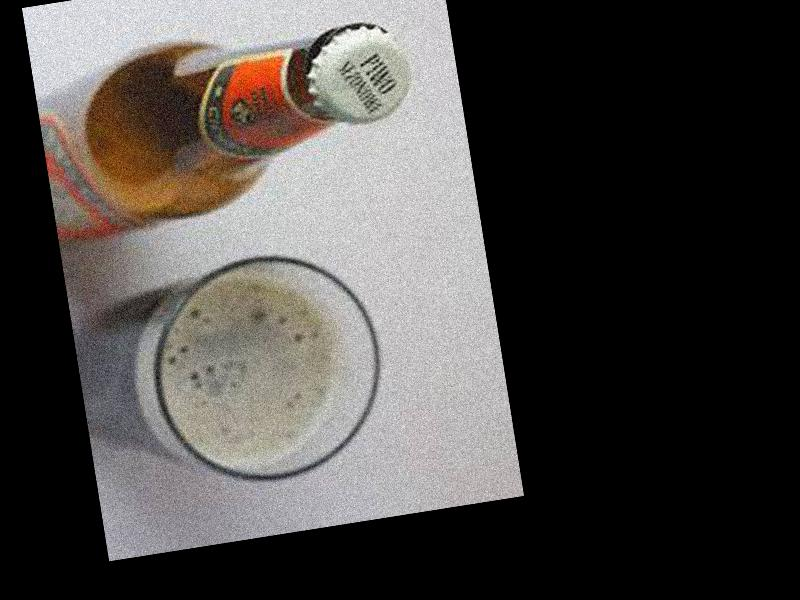Beer: (30, 6, 428, 247)
